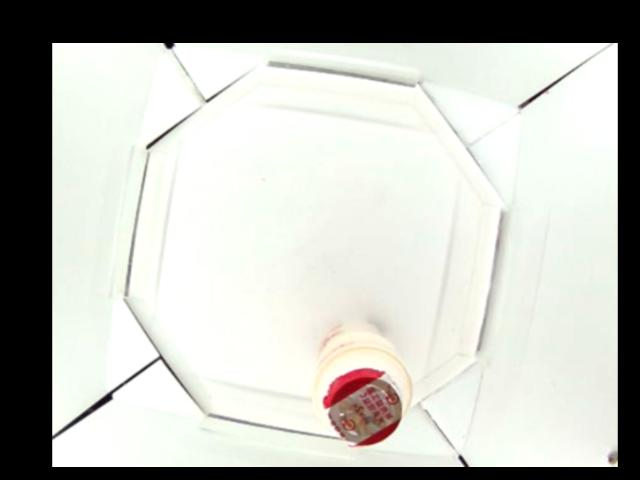Bottle: (314, 321, 412, 449)
